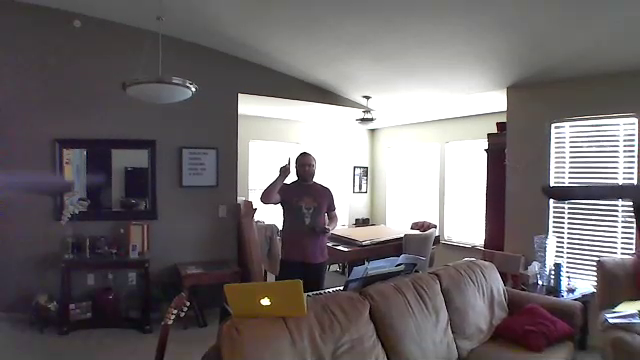up: (277, 156, 297, 182)
